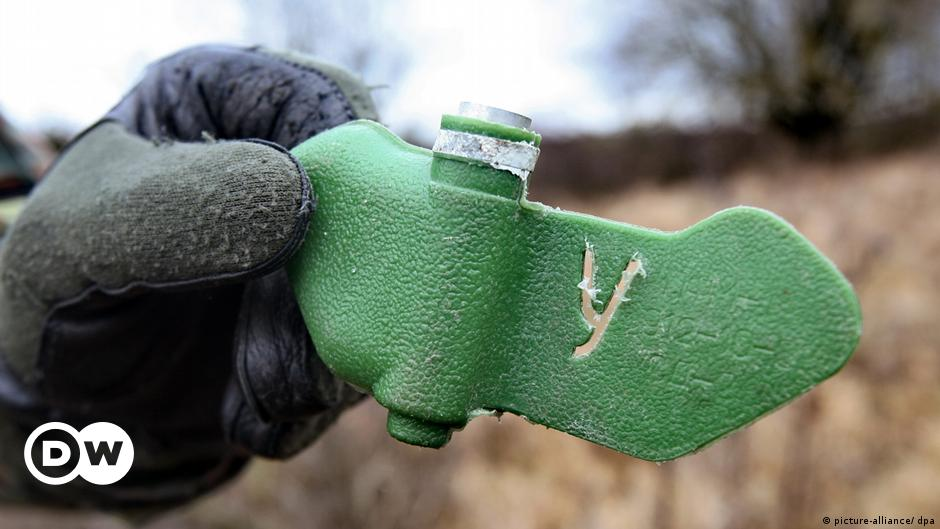butterfly: (265, 95, 874, 470)
